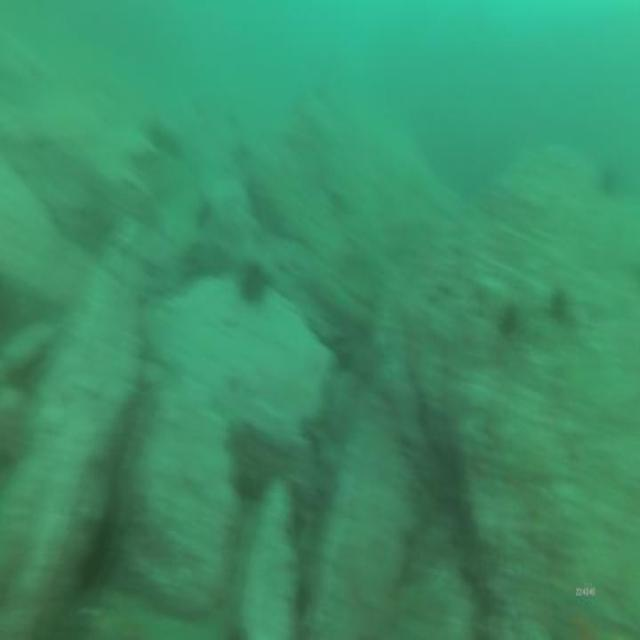echinus: (220, 417, 274, 507), (186, 236, 228, 282), (144, 119, 180, 158), (240, 259, 268, 308), (546, 284, 573, 332), (495, 296, 522, 342), (598, 163, 626, 204)
